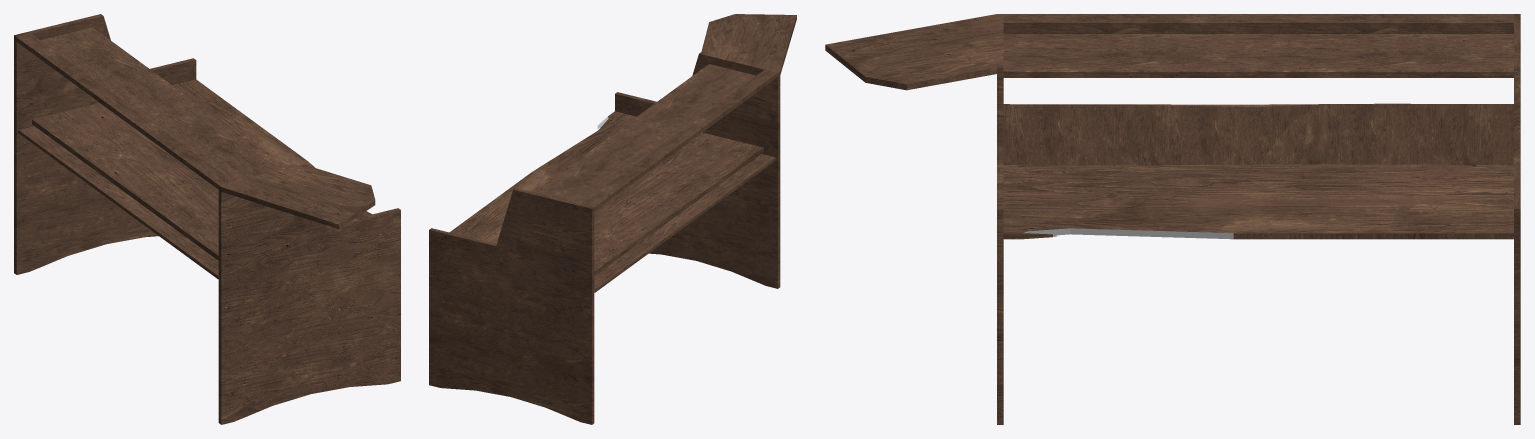
The model's file is M_Home_Garden_Rack_06.fbx.
The picture shows the model from 3 angles, left to right: view 1: azimuth 30°, elevation 25°; view 2: azimuth 150°, elevation 25°; view 3: azimuth 270°, elevation 25°; orthographic projection. The views are drawn at different scales.
Visible parts, largest first — view 1: M_Home_Garden_Rack_06; view 2: M_Home_Garden_Rack_06; view 3: M_Home_Garden_Rack_06.
Boxes of the visible parts, x1,y1,x2,y2 form: M_Home_Garden_Rack_06: (14,14,400,424); M_Home_Garden_Rack_06: (429,14,796,424); M_Home_Garden_Rack_06: (825,14,1520,424).
Bounding box in the file's own units: 109 × 139 × 290.
